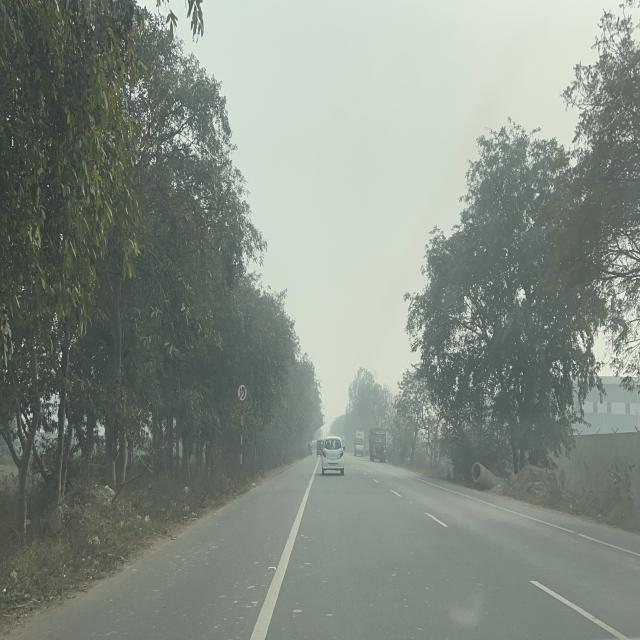OVERTAKING_PROHIBITED: (237, 383, 248, 402)
